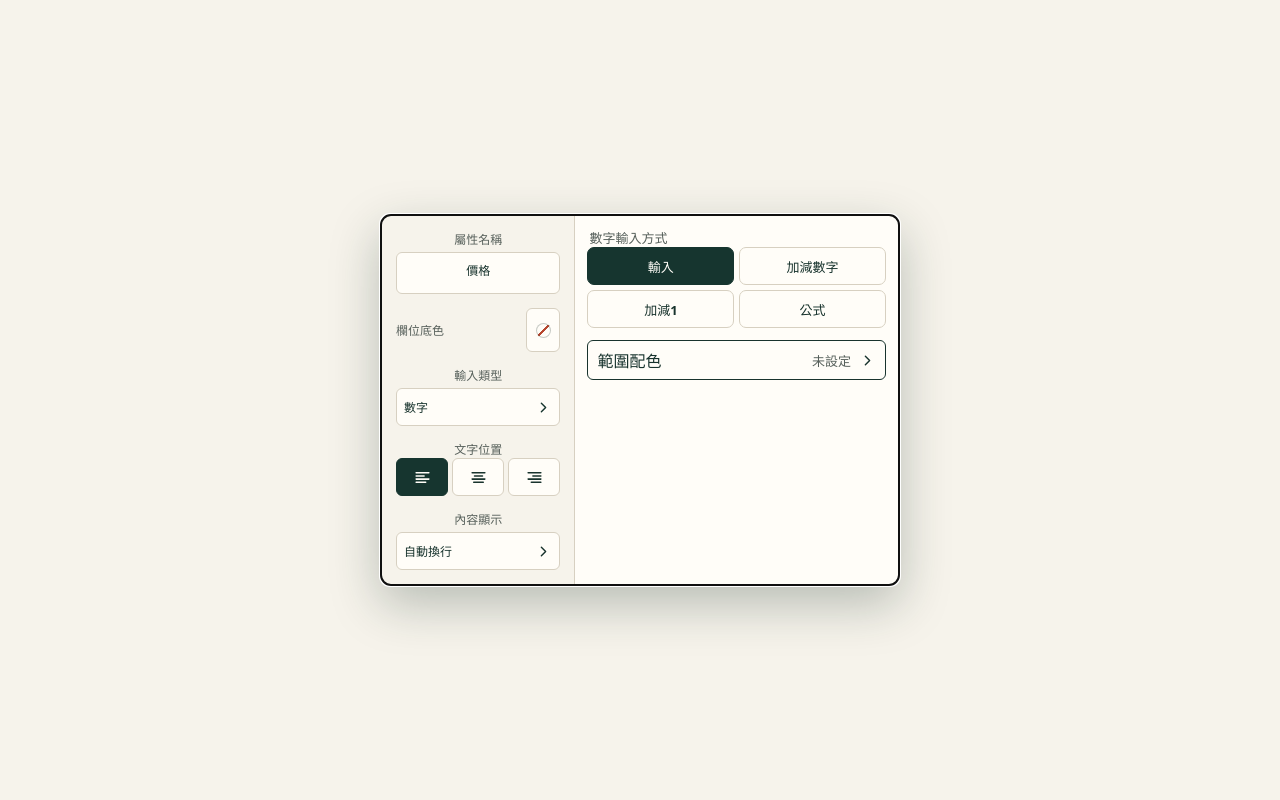
Test: formula settings and conversions › immediately warns when a source type change would invalidate another formula and clears on correction
Click the dropdown named "輸入類型". click: click(478, 407)
box: [396,388,560,426]
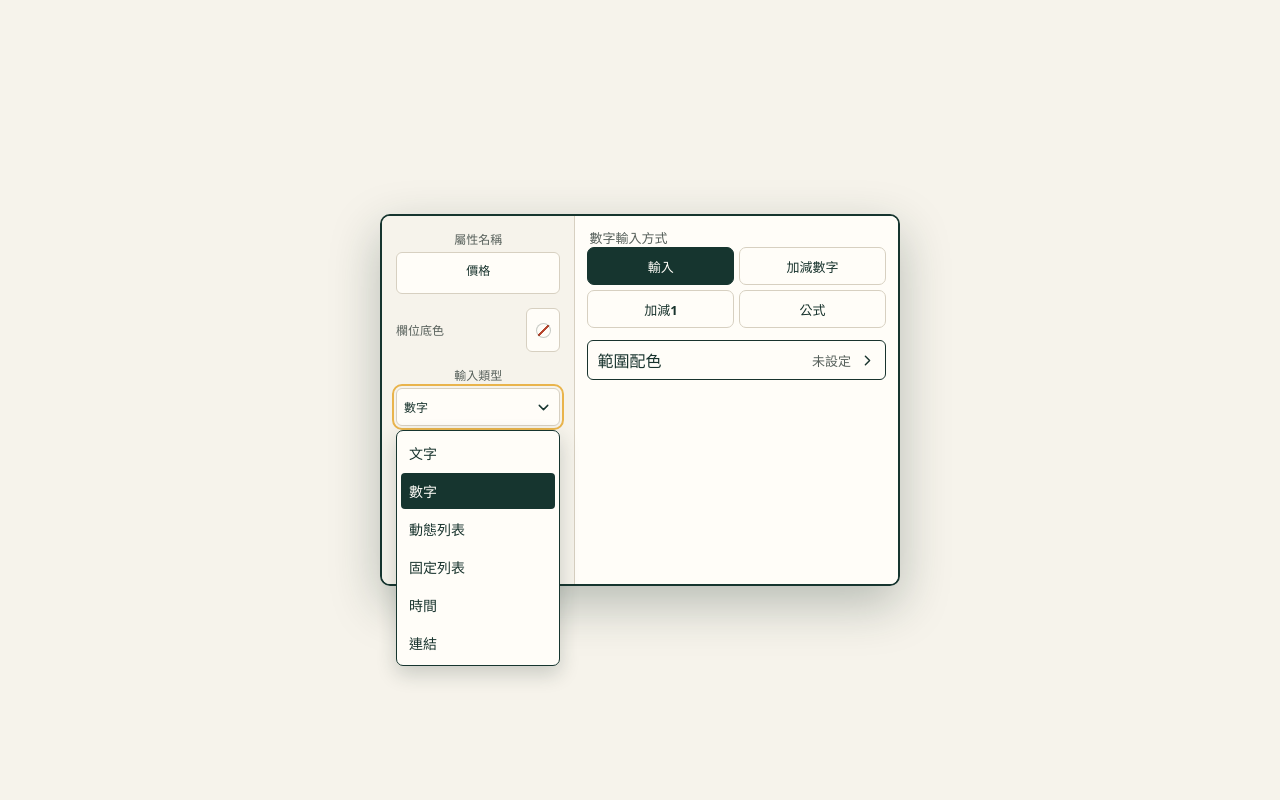
Click the option "文字". click: click(478, 453)
box: [401,435,556,471]
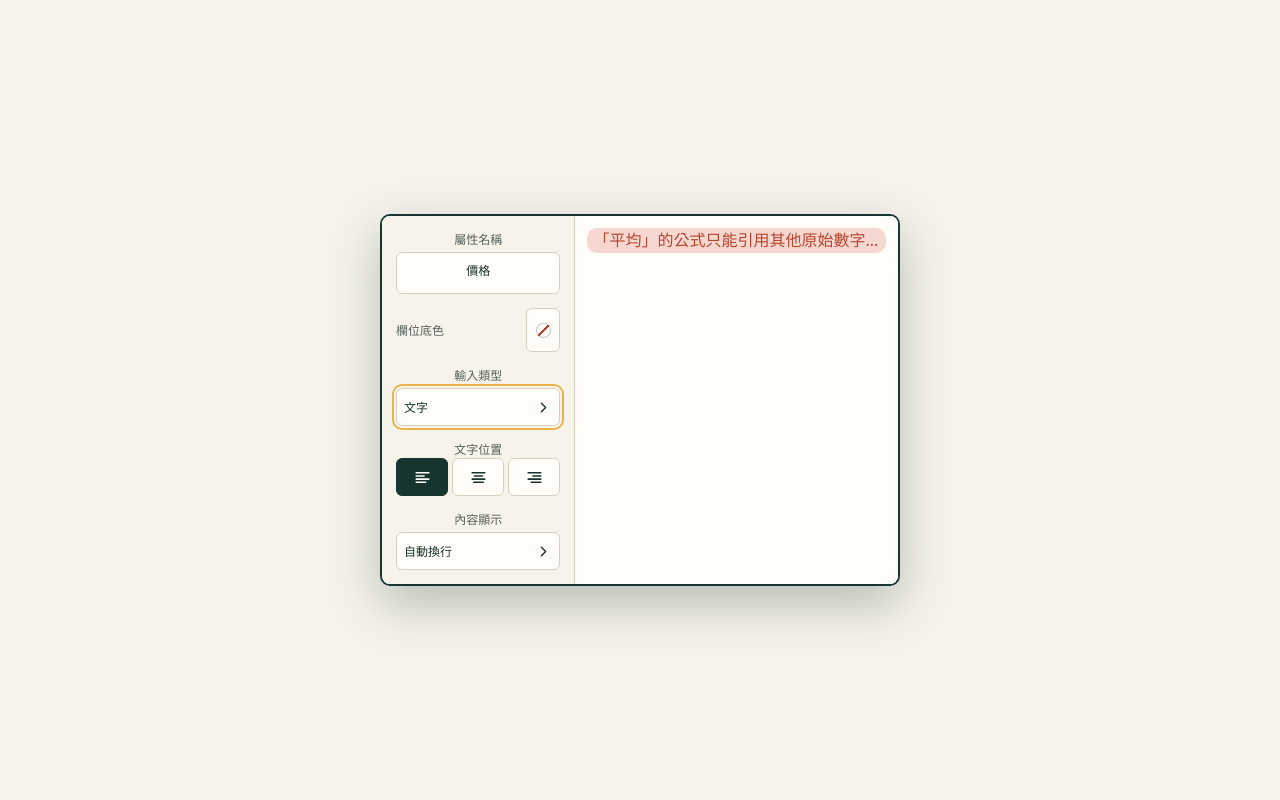
Check: the message shows "公式只能引用其他原始數字屬性", box [594,229,898,251]
Click the dropdown named "輸入類型". click: click(478, 407)
box: [396,388,560,426]
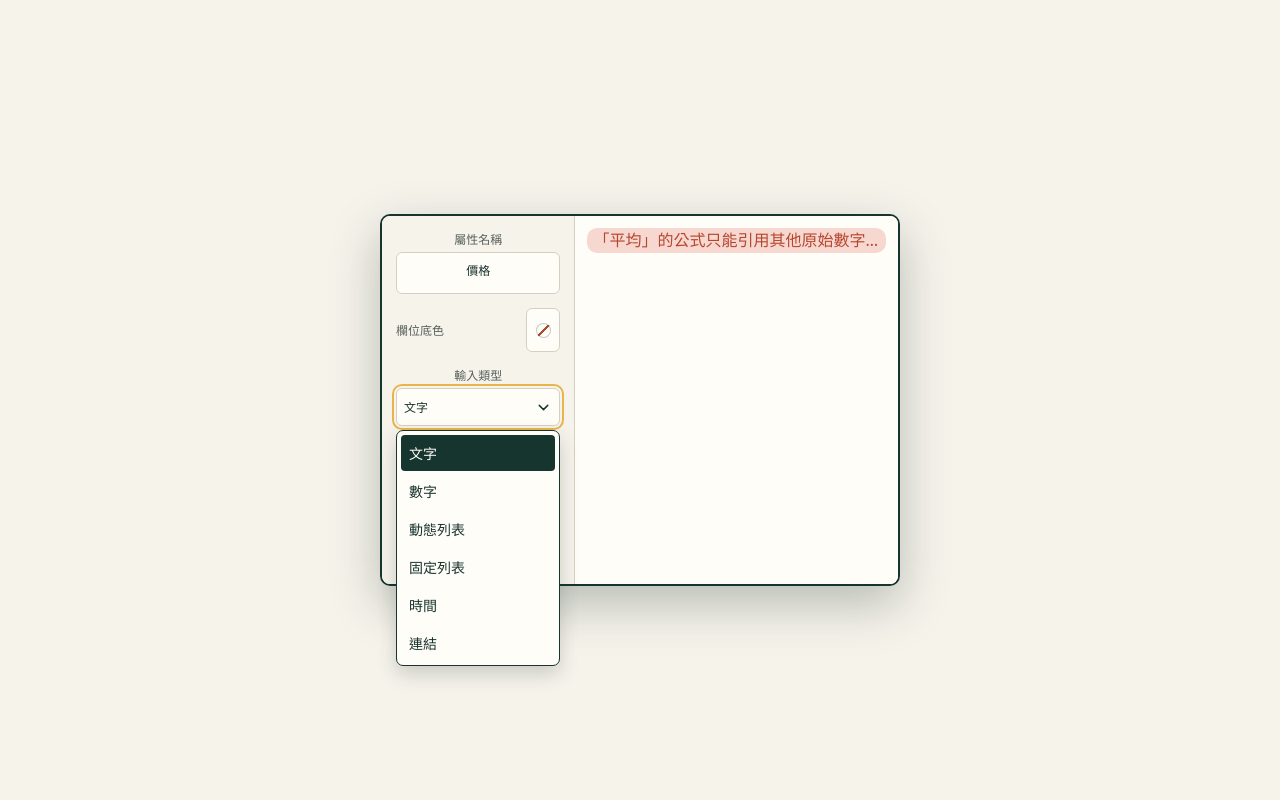
Click the option "數字". click: click(478, 491)
box: [401,473,556,509]
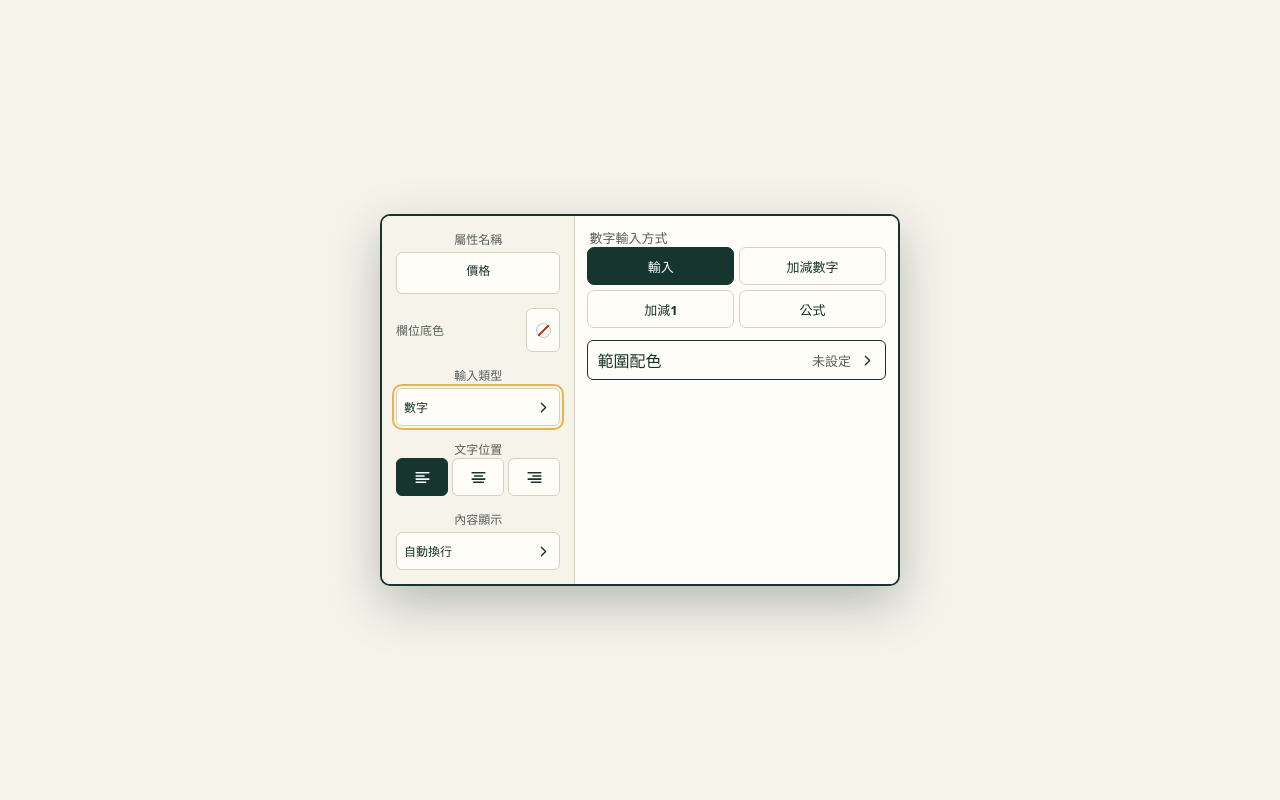
Check: the message "「平均」的公式只能引用其他原始數字屬性" is gone
